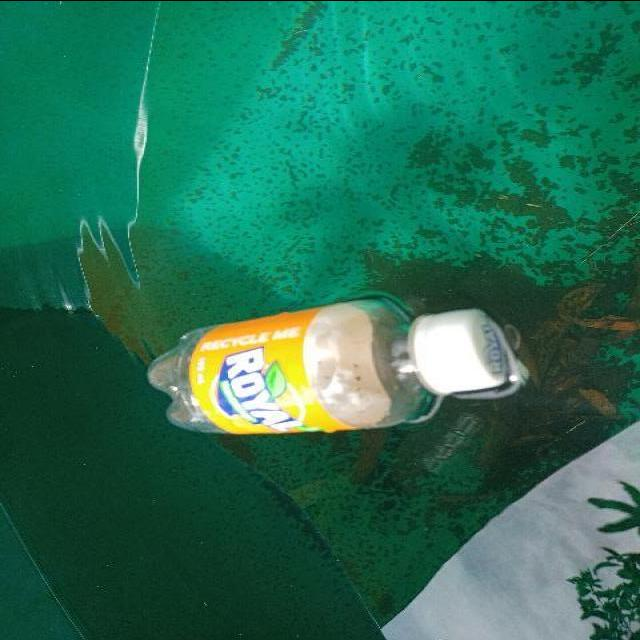Bottle: (139, 285, 528, 449)
